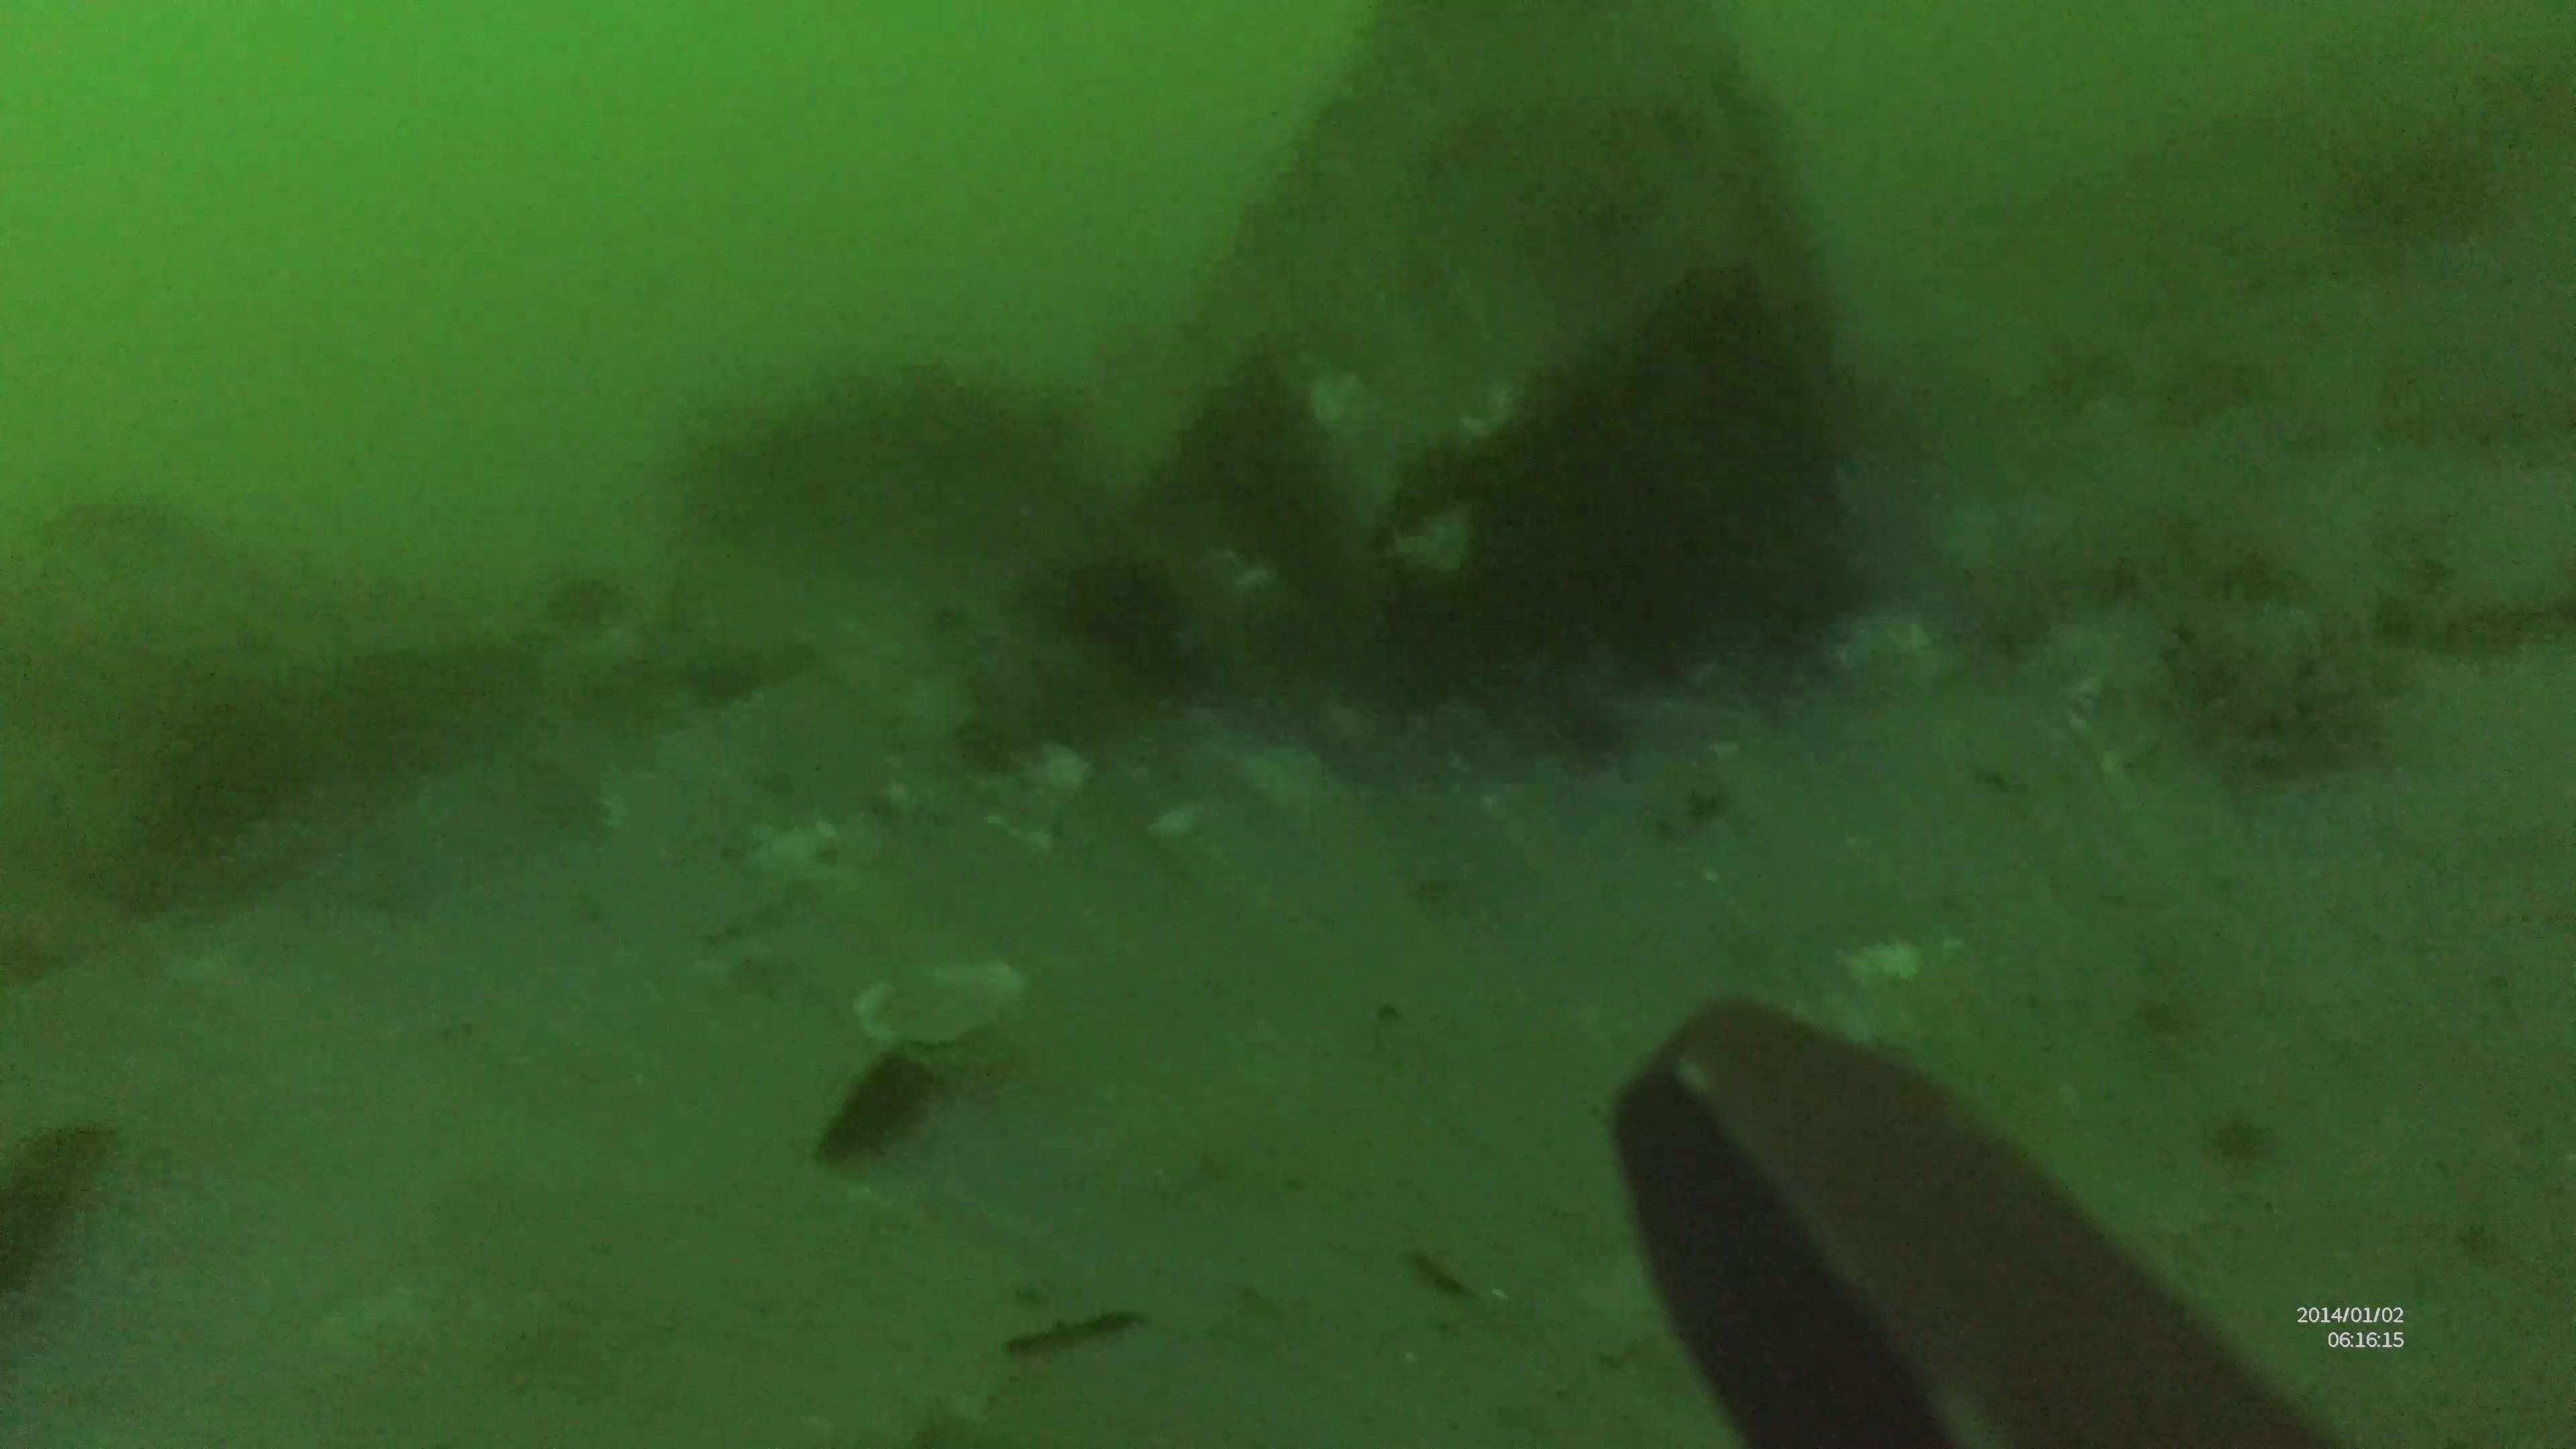echinus: (1049, 545, 1212, 694)
